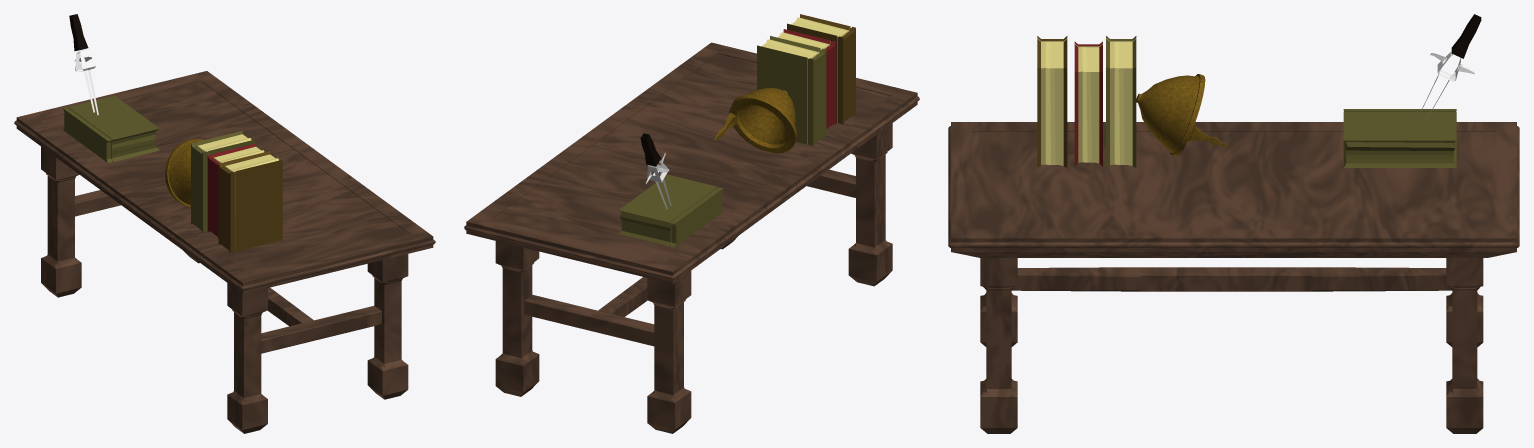
The model's file is Kitchen_tabel.fbx.
3 renders of one model, left to right at view 1: azimuth 30°, elevation 25°; view 2: azimuth 150°, elevation 25°; view 3: azimuth 270°, elevation 25°, orthographic. The views are drawn at different scales.
Parts seen in each view (by area): view 1: Plane, Cube.001, Cube.003, Cube.013, Cube.012, Circle, Cube.008, Cube.010, Cube.002, Cube.006, Cube.009, Cube.004 (+1 smaller); view 2: Plane, Cube.001, Cube.003, Circle, Cube.009, Cube.008, Cube.012, Cube.010, Cube.013, Cube.004, Cube.006, Cube.002; view 3: Plane, Cube.001, Cube.003, Circle, Cube.004, Cube.006, Cube.005, Cube.009, Cube.013, Cube.011, Cube.007.
Boxes of the visible parts, x1,y1,x2,y2 form: Plane: [14, 71, 435, 293]; Cube.001: [41, 146, 408, 433]; Cube.003: [63, 95, 159, 162]; Cube.013: [224, 151, 282, 251]; Cube.012: [218, 162, 235, 252]; Circle: [165, 139, 203, 207]; Cube.008: [191, 142, 207, 232]; Cube.010: [207, 154, 223, 238]; Cube.002: [74, 49, 98, 115]; Cube.006: [223, 154, 278, 251]; Cube.009: [196, 130, 254, 155]; Cube.004: [196, 134, 251, 154]; Plane: [464, 42, 919, 283]; Cube.001: [495, 123, 892, 433]; Cube.003: [618, 174, 723, 247]; Circle: [714, 88, 796, 153]; Cube.009: [757, 36, 820, 144]; Cube.008: [808, 48, 826, 145]; Cube.012: [837, 26, 855, 124]; Cube.010: [825, 41, 836, 128]; Cube.013: [787, 14, 850, 122]; Cube.004: [761, 39, 820, 144]; Cube.006: [791, 17, 850, 122]; Cube.002: [645, 152, 671, 209]; Plane: [948, 122, 1519, 257]; Cube.001: [980, 258, 1483, 433]; Cube.003: [1343, 109, 1456, 167]; Circle: [1136, 74, 1228, 156]; Cube.004: [1106, 38, 1136, 165]; Cube.006: [1037, 38, 1067, 165]; Cube.005: [1075, 43, 1102, 163]; Cube.009: [1106, 39, 1136, 167]; Cube.013: [1037, 39, 1067, 167]; Cube.011: [1074, 44, 1102, 166]; Cube.007: [1451, 14, 1481, 58].
Size of the model in its own units: 292 by 389 by 595.
